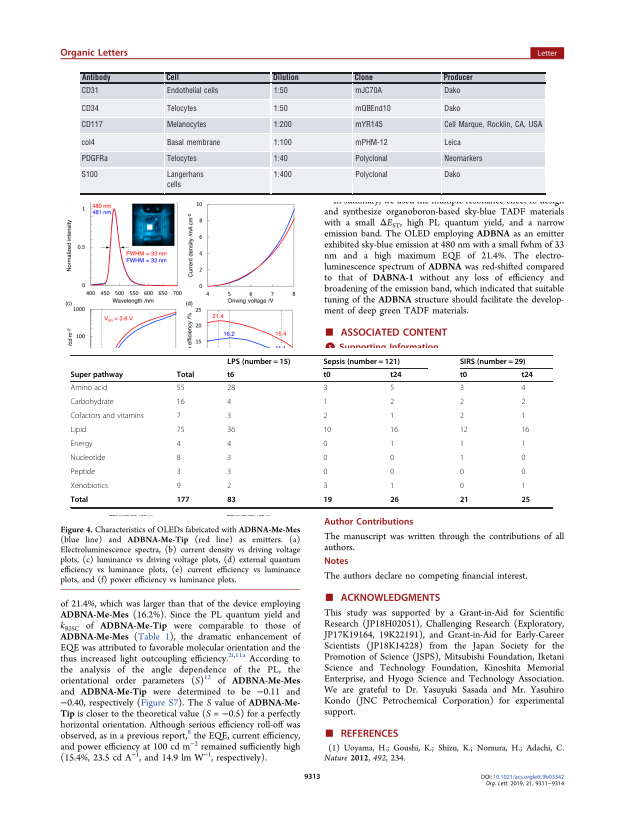borderless: (69, 353, 552, 507), (80, 71, 546, 193)
cell: (443, 120, 543, 130), (165, 170, 204, 190), (70, 411, 145, 421), (322, 357, 401, 366), (459, 357, 526, 366), (226, 357, 291, 366), (70, 370, 124, 380), (165, 138, 221, 147), (165, 86, 219, 95), (70, 397, 115, 407), (165, 120, 207, 130), (443, 154, 483, 164), (70, 481, 109, 491), (70, 383, 108, 393), (70, 453, 106, 463), (354, 154, 388, 164), (354, 170, 388, 180), (354, 104, 391, 113), (165, 154, 197, 164), (80, 73, 111, 83), (442, 73, 473, 83), (354, 138, 388, 147), (354, 120, 383, 130), (165, 104, 197, 113), (271, 73, 299, 83), (80, 154, 108, 164), (70, 467, 96, 477), (354, 86, 382, 95), (70, 439, 93, 449), (80, 120, 103, 130), (353, 73, 373, 83), (272, 120, 292, 130), (272, 170, 292, 180), (176, 370, 195, 380), (70, 495, 89, 505), (272, 138, 292, 147), (80, 170, 98, 180), (443, 170, 461, 180), (80, 86, 99, 95), (80, 104, 99, 113), (70, 425, 87, 435), (443, 86, 461, 95), (443, 104, 461, 113), (443, 138, 461, 147), (272, 154, 288, 164), (272, 86, 288, 95), (272, 104, 288, 113), (389, 370, 403, 380), (520, 370, 534, 380), (176, 495, 190, 505), (165, 73, 179, 83), (80, 138, 95, 147), (226, 495, 237, 505), (322, 495, 333, 505), (389, 495, 400, 505), (520, 495, 531, 505), (226, 383, 236, 393), (226, 425, 236, 435), (322, 425, 332, 435), (389, 425, 399, 435), (459, 425, 469, 435), (520, 425, 530, 435), (459, 495, 469, 505), (226, 370, 235, 380), (322, 370, 331, 380), (459, 370, 468, 380), (176, 383, 185, 393), (176, 397, 185, 407), (176, 425, 185, 435), (322, 383, 328, 393), (389, 383, 395, 393), (459, 383, 465, 393), (520, 383, 526, 393), (226, 397, 232, 407), (322, 397, 328, 407), (389, 397, 395, 407), (459, 397, 465, 407), (520, 397, 526, 407), (176, 411, 182, 421), (226, 411, 232, 421), (322, 411, 328, 421), (389, 411, 395, 421), (459, 411, 465, 421), (520, 411, 526, 421), (176, 439, 182, 449), (226, 439, 232, 449), (322, 439, 328, 449), (389, 439, 395, 449), (459, 439, 465, 449), (520, 439, 526, 449), (176, 453, 182, 463), (226, 453, 232, 463), (322, 453, 328, 463), (389, 453, 395, 463), (459, 453, 465, 463), (520, 453, 526, 463), (176, 467, 182, 477), (226, 467, 232, 477), (322, 467, 328, 477), (389, 467, 395, 477), (459, 467, 465, 477), (520, 467, 526, 477), (176, 481, 182, 491), (226, 481, 232, 491), (322, 481, 328, 491), (389, 481, 395, 491), (459, 481, 465, 491), (520, 481, 526, 491)
